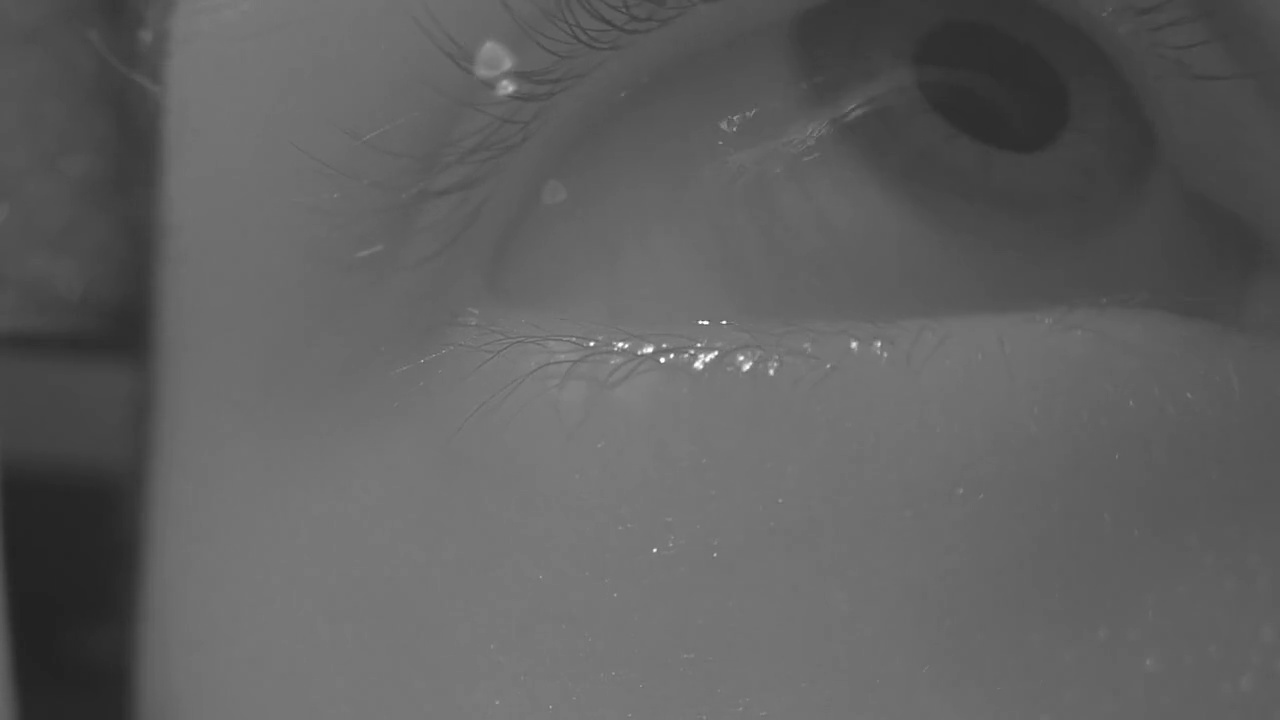pupil: (915, 20, 1071, 154)
